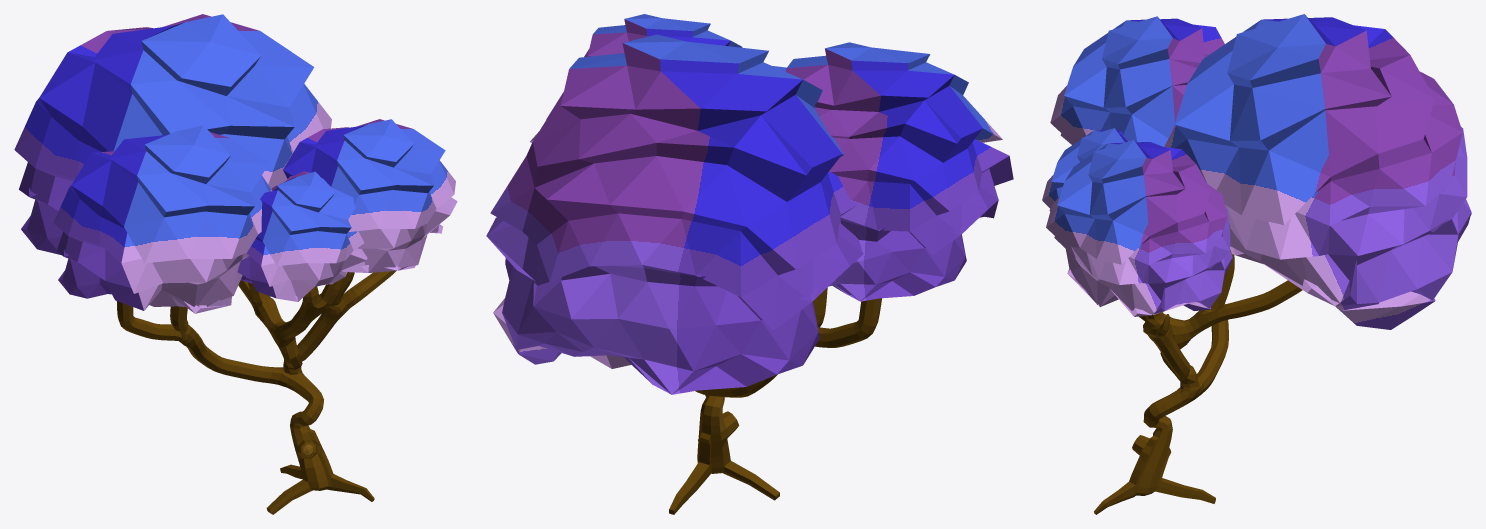
Rendered from bigtreepurple.glb.
The picture shows the model from 3 angles, left to right: view 1: azimuth 30°, elevation 25°; view 2: azimuth 150°, elevation 25°; view 3: azimuth 270°, elevation 25°; orthographic projection. The views are drawn at different scales.
Parts seen in each view (by area): view 1: Icosphere; view 2: Icosphere; view 3: Icosphere.
Part boxes in pixels (left/top/right/bottom): Icosphere: left=14, top=14, right=457, bottom=514; Icosphere: left=486, top=14, right=1013, bottom=514; Icosphere: left=1042, top=14, right=1471, bottom=514.
Bounding box in the file's own units: 11.37 × 12.82 × 11.29.
Materials: 4 (1 with a texture image).
